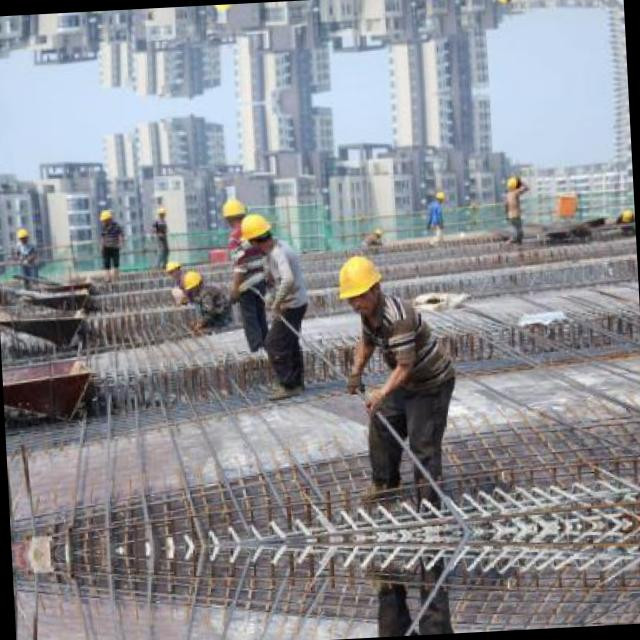helmet: (332, 246, 388, 322), (240, 209, 273, 249), (222, 198, 248, 230), (182, 265, 204, 292), (504, 170, 522, 196), (164, 256, 182, 278), (94, 206, 112, 228), (15, 224, 30, 247), (153, 203, 167, 224), (432, 188, 444, 208), (212, 4, 238, 13), (495, 0, 513, 10), (83, 11, 102, 18), (144, 8, 158, 14)
